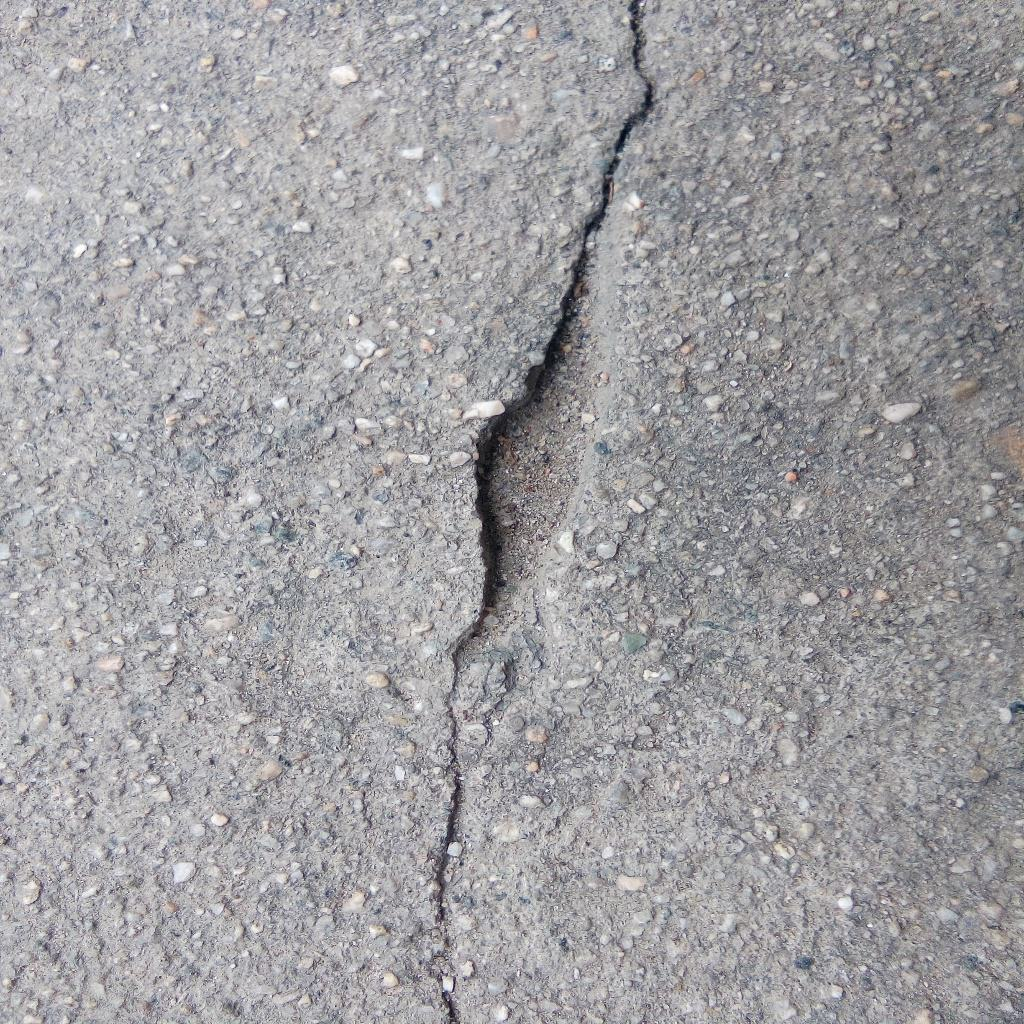Crack: (584, 1, 656, 249), (428, 678, 467, 1024)
Spalling: (449, 249, 627, 677)
